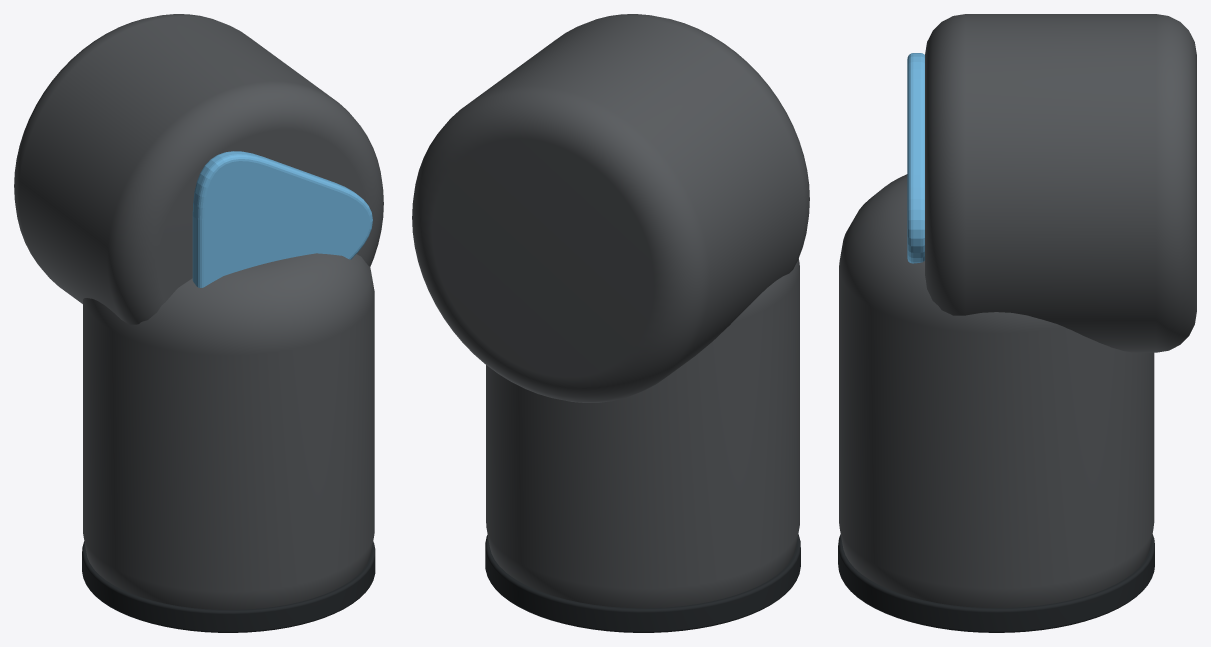
File: wrist_1_link.obj
3 renders of one model, left to right at view 1: azimuth 30°, elevation 25°; view 2: azimuth 150°, elevation 25°; view 3: azimuth 270°, elevation 25°, orthographic. The views are drawn at different scales.
Visible parts, largest first — view 1: wrist_bridge, wrist_axis, wrist_cap, wrist_output_seal; view 2: wrist_axis, wrist_bridge, wrist_output_seal; view 3: wrist_bridge, wrist_axis, wrist_output_seal, wrist_cap.
Boxes of the visible parts, <box> form: wrist_bridge: <box>83,253,374,609</box>; wrist_axis: <box>14,14,383,324</box>; wrist_cap: <box>192,151,372,287</box>; wrist_output_seal: <box>82,541,375,632</box>; wrist_axis: <box>412,14,809,402</box>; wrist_bridge: <box>486,259,799,608</box>; wrist_output_seal: <box>485,534,800,632</box>; wrist_bridge: <box>839,174,1154,607</box>; wrist_axis: <box>925,14,1196,352</box>; wrist_output_seal: <box>838,534,1154,632</box>; wrist_cap: <box>907,53,924,263</box>.
Size of the model in its own units: 0.116 by 0.2113 by 0.1227.
